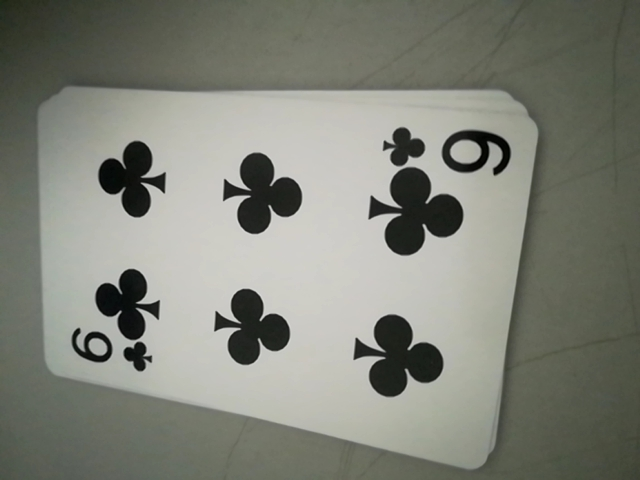mh 6: (378, 121, 513, 176), (65, 327, 156, 380)
